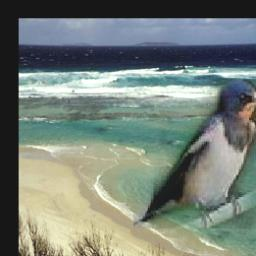Swallow: (133, 80, 256, 230)
